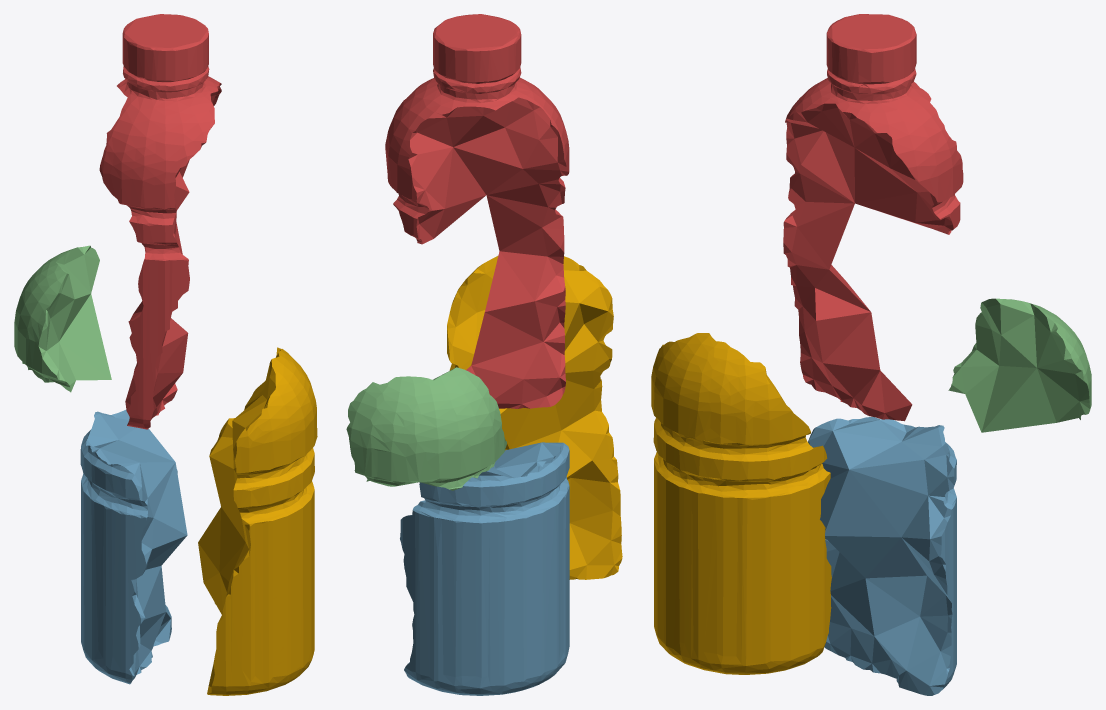
The model's file is mode_4_4pcs_transformed.glb.
3 views of the same model, side by side, from view 1: azimuth 30°, elevation 25°; view 2: azimuth 150°, elevation 25°; view 3: azimuth 270°, elevation 25° (orthographic). The views are drawn at different scales.
Visible parts, largest first — view 1: piece_0.obj, piece_1.obj, piece_2.obj, piece_3.obj; view 2: piece_1.obj, piece_2.obj, piece_0.obj, piece_3.obj; view 3: piece_0.obj, piece_1.obj, piece_2.obj, piece_3.obj.
Part boxes in pixels (x1,y1,x2,y2): piece_0.obj: [198, 347, 317, 695]; piece_1.obj: [99, 14, 221, 429]; piece_2.obj: [80, 410, 187, 684]; piece_3.obj: [14, 245, 111, 392]; piece_1.obj: [385, 14, 569, 408]; piece_2.obj: [400, 442, 569, 695]; piece_0.obj: [447, 256, 622, 579]; piece_3.obj: [346, 367, 506, 490]; piece_0.obj: [651, 333, 831, 674]; piece_1.obj: [783, 14, 963, 421]; piece_2.obj: [808, 417, 956, 695]; piece_3.obj: [948, 298, 1091, 432].
Bounding box in the file's own units: 0.4463 × 1.7 × 1.05.
